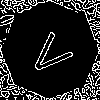V: (25, 25, 81, 80)
